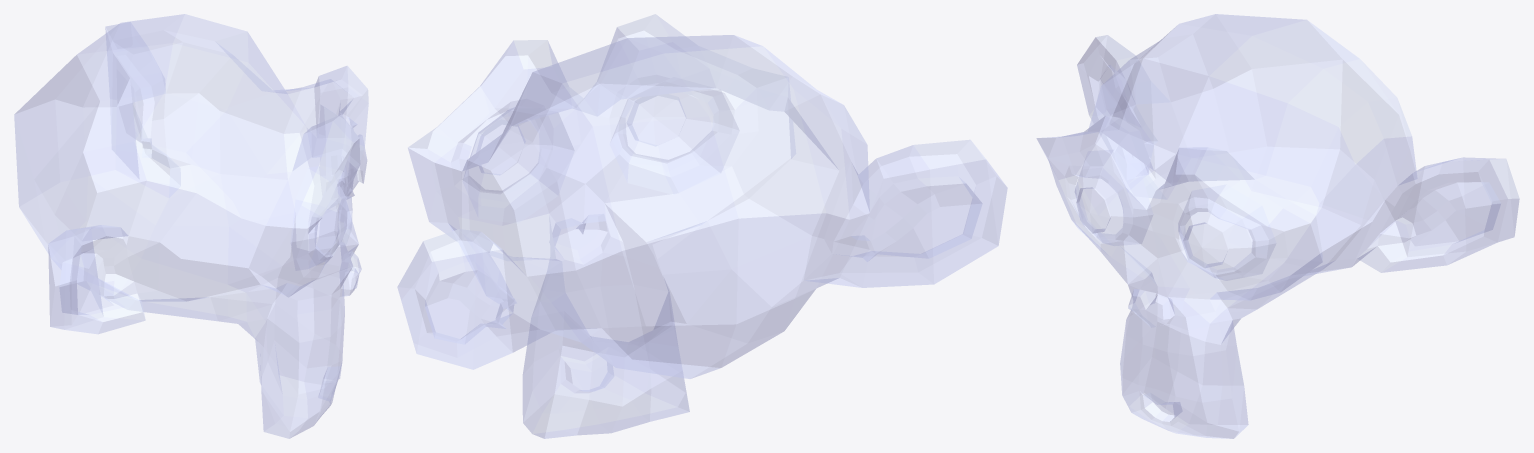
File: syneprix_mono_web_glass_approx.glb
3 renders of one model, left to right at view 1: azimuth 30°, elevation 25°; view 2: azimuth 150°, elevation 25°; view 3: azimuth 270°, elevation 25°, orthographic. The views are drawn at different scales.
Visible parts, largest first — view 1: Suzanne; view 2: Suzanne; view 3: Suzanne.
Boxes of the visible parts, x1,y1,x2,y2 form: Suzanne: (14,14,368,438); Suzanne: (397,14,1007,438); Suzanne: (1036,14,1519,438).
Bounding box in the file's own units: 27.14 × 24.23 × 30.05.
